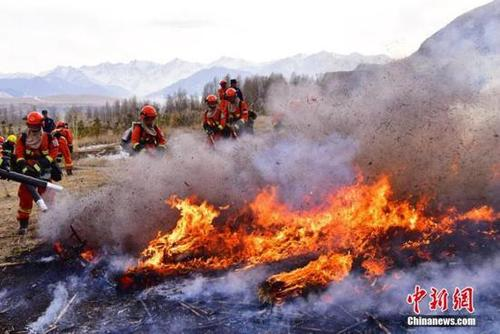fire: (145, 187, 443, 282), (457, 204, 499, 226)
